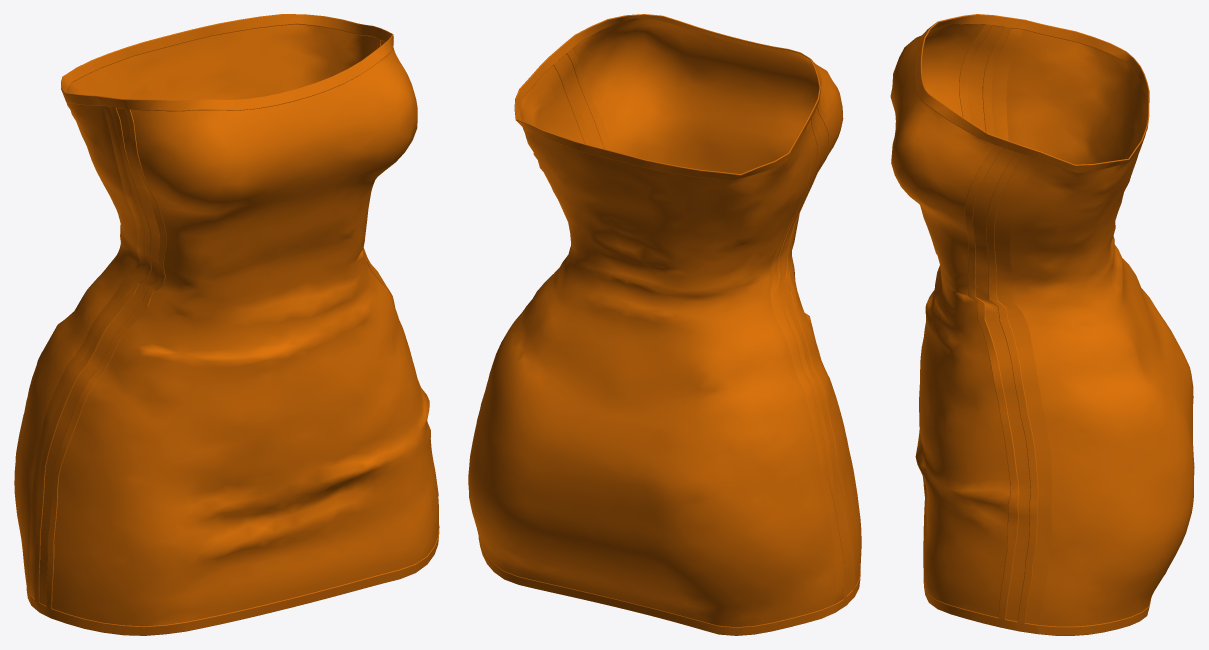
Rendered from vestidofem3.glb.
3 views of the same model, side by side, from view 1: azimuth 30°, elevation 25°; view 2: azimuth 150°, elevation 25°; view 3: azimuth 270°, elevation 25° (orthographic). The views are drawn at different scales.
Visible parts, largest first — view 1: hash_0E4F123C.model; view 2: hash_0E4F123C.model; view 3: hash_0E4F123C.model.
Boxes of the visible parts, <box> form: hash_0E4F123C.model: <box>14,14,439,635</box>; hash_0E4F123C.model: <box>468,14,861,635</box>; hash_0E4F123C.model: <box>890,14,1194,635</box>.
Size of the model in its own units: 0.4322 by 0.5815 by 0.3193.
